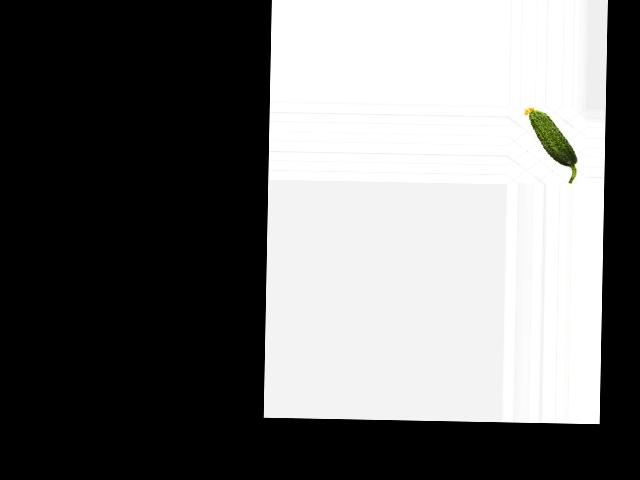cucumber: (522, 106, 578, 182)
